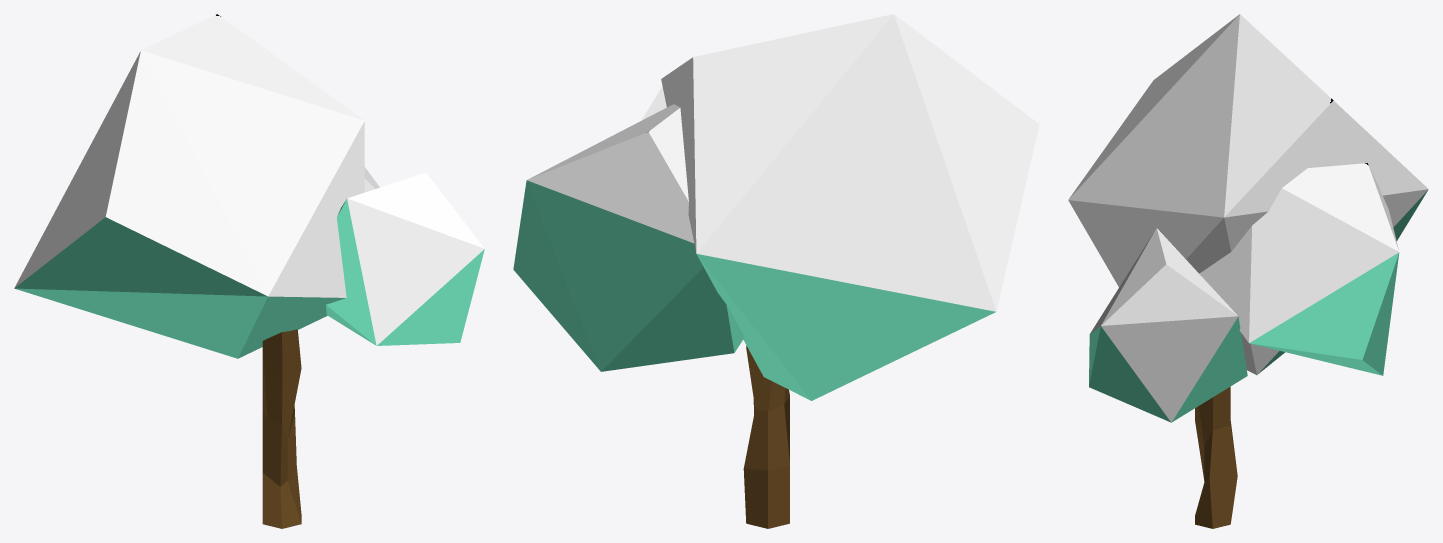
The model's file is tree2.FBX.
The picture shows the model from 3 angles, left to right: view 1: azimuth 30°, elevation 25°; view 2: azimuth 150°, elevation 25°; view 3: azimuth 270°, elevation 25°; orthographic projection. The views are drawn at different scales.
Parts seen in each view (by area): view 1: Cylinder094; view 2: Cylinder094; view 3: Cylinder094.
Part boxes in pixels (x1,y1,x2,y2): Cylinder094: (14,14,484,528); Cylinder094: (513,14,1039,528); Cylinder094: (1068,14,1428,528).
Bounding box in the file's own units: 41.05 × 50.5 × 36.72.
Materials: 1 (1 with a texture image).
